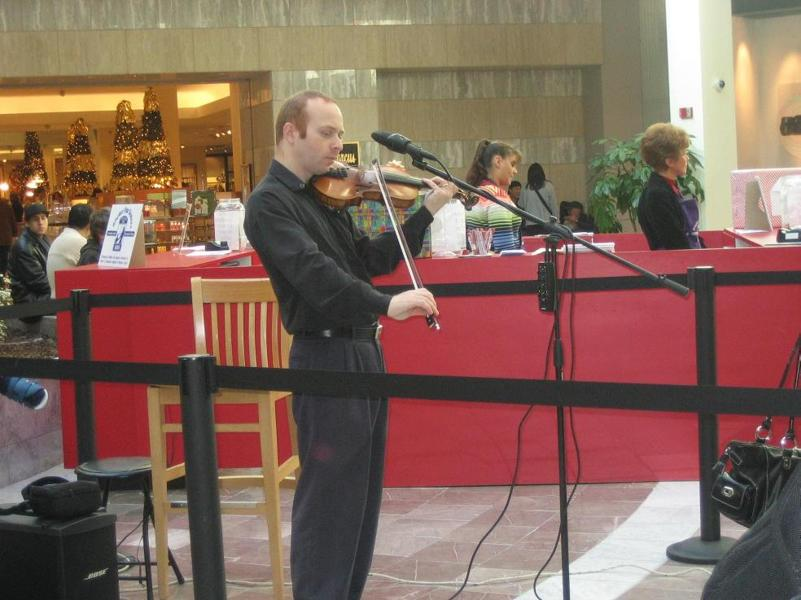person: (243, 94, 466, 599)
